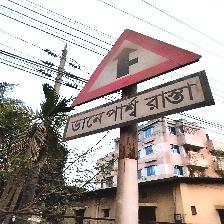Side-road-right: (64, 28, 213, 143)
